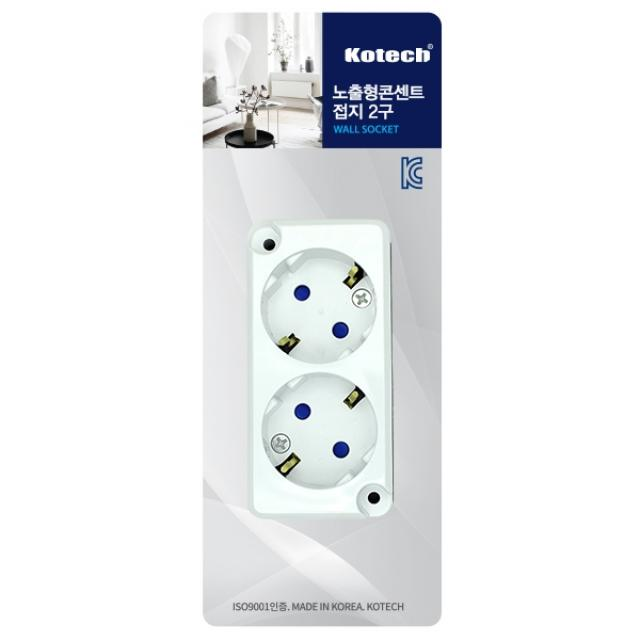typeb: (218, 204, 418, 536)
